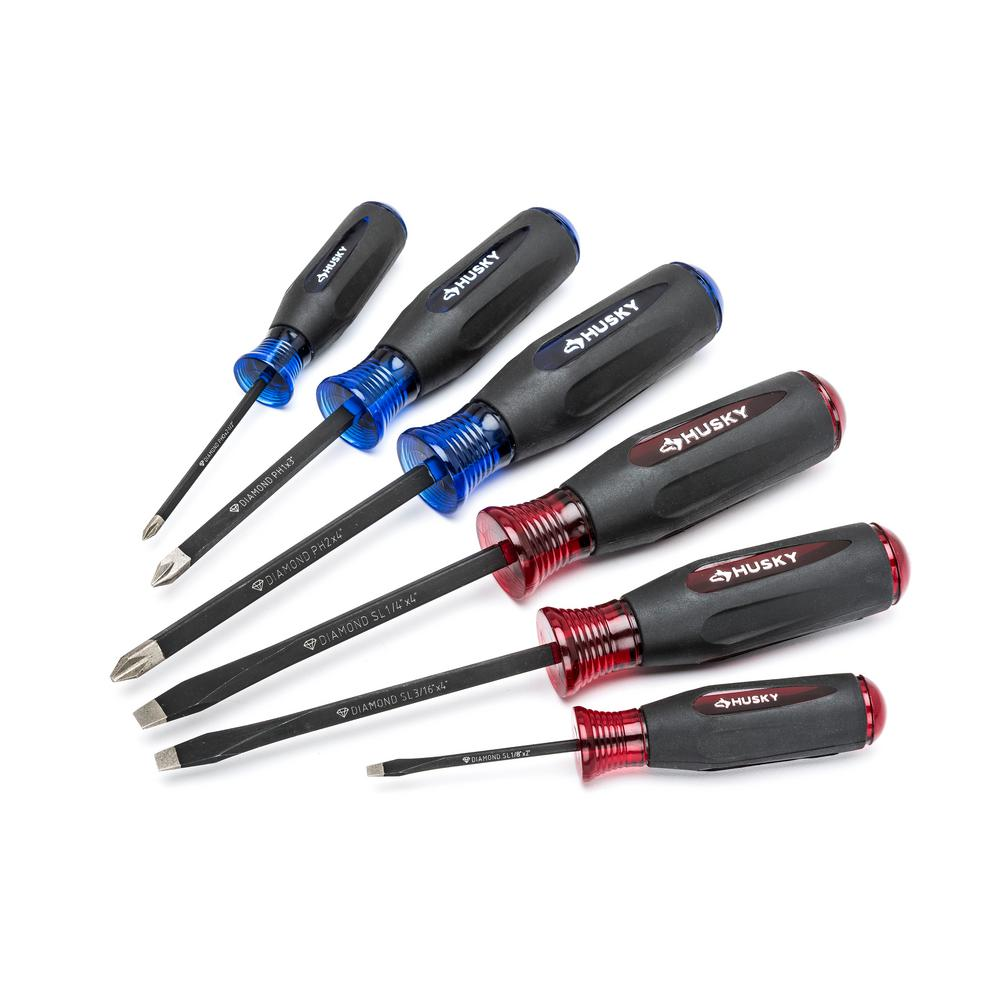screwdriver: (111, 258, 727, 683), (131, 370, 846, 733), (150, 519, 911, 774), (145, 206, 581, 591), (143, 197, 407, 541), (361, 670, 890, 798)
